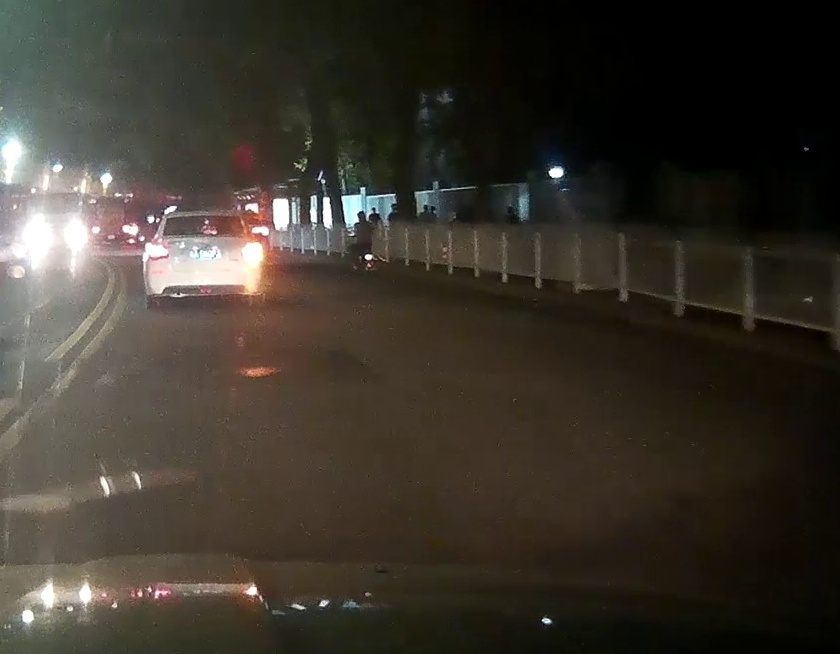L_light: (147, 244, 169, 259)
R_light: (242, 244, 262, 261)
T_light: (203, 231, 215, 234)
night-right: (144, 210, 262, 310)
